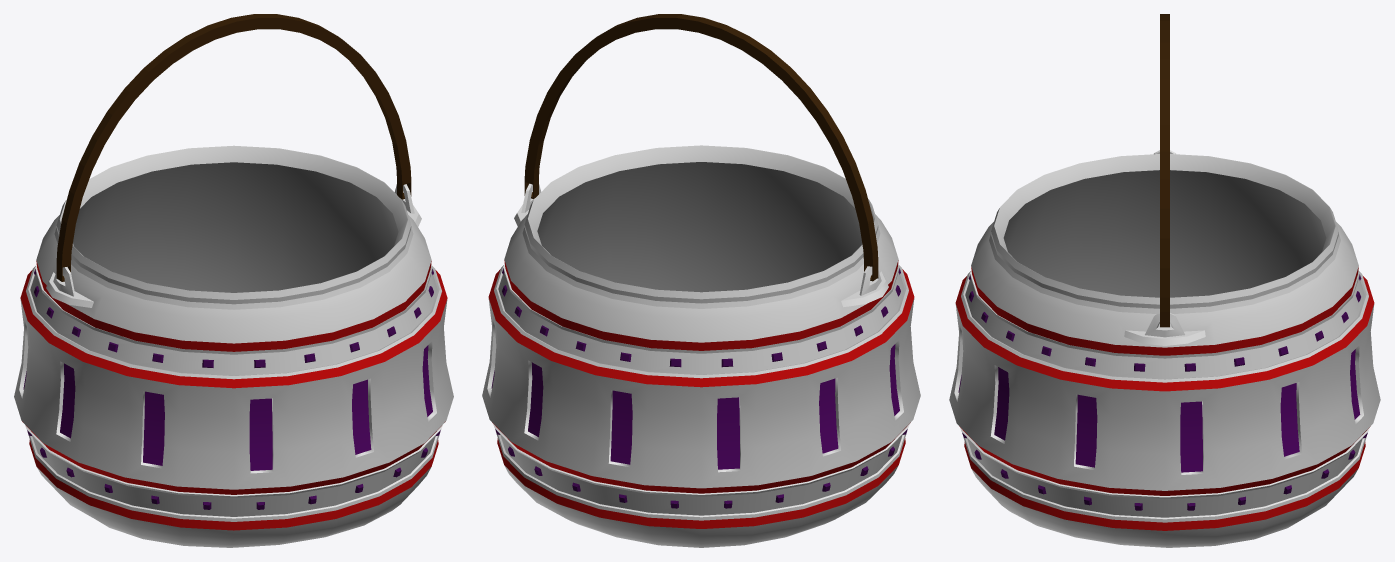
File: Hea_Player_Cauldron.fbx
3 views of the same model, side by side, from view 1: azimuth 30°, elevation 25°; view 2: azimuth 150°, elevation 25°; view 3: azimuth 270°, elevation 25° (orthographic).
Parts seen in each view (by area): view 1: Cauldron; view 2: Cauldron; view 3: Cauldron.
Boxes of the visible parts, x1,y1,x2,y2 form: Cauldron: (14,14,453,547); Cauldron: (482,14,920,547); Cauldron: (949,14,1380,547).
Size of the model in its own units: 145 by 171 by 145.
